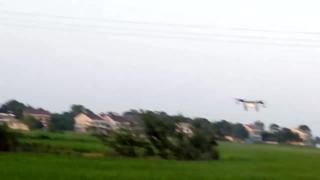UAV: (233, 98, 266, 112)
